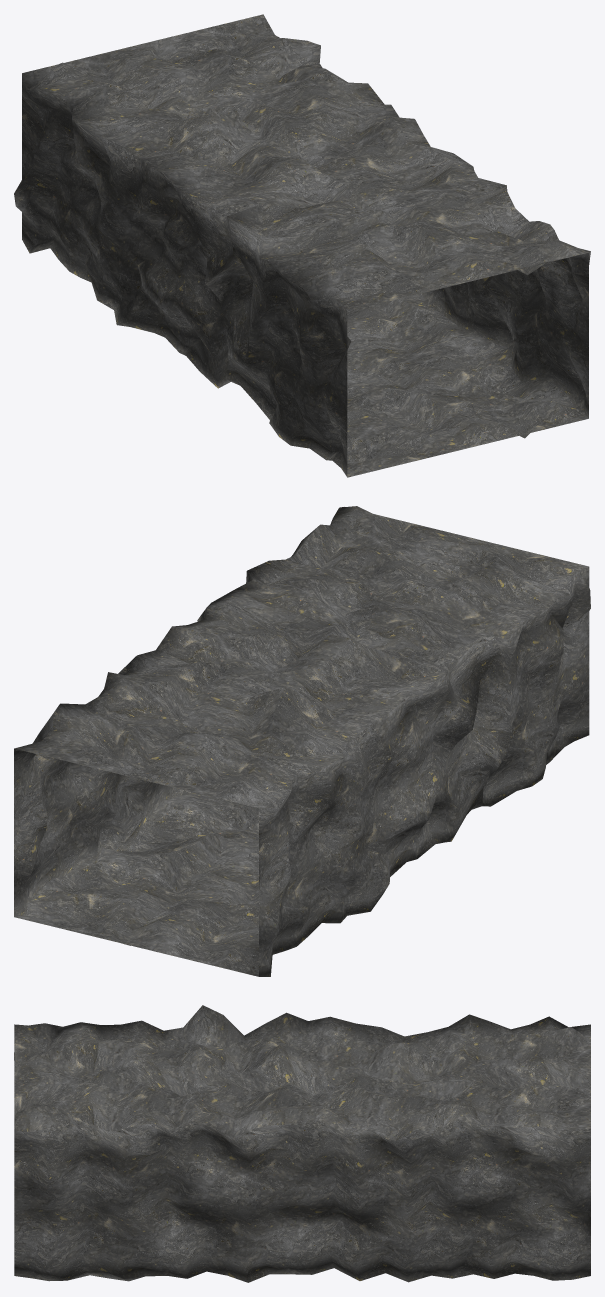
The model's file is tonnel.fbx.
The picture shows the model from 3 angles, top to bottom: view 1: azimuth 30°, elevation 25°; view 2: azimuth 150°, elevation 25°; view 3: azimuth 270°, elevation 25°; orthographic projection. The views are drawn at different scales.
Visible parts, largest first — view 1: Tonnel; view 2: Tonnel; view 3: Tonnel.
Boxes of the visible parts, left/top/right/bottom form: Tonnel: left=14, top=14, right=590, bottom=477; Tonnel: left=14, top=506, right=590, bottom=976; Tonnel: left=14, top=1005, right=590, bottom=1282.
Size of the model in its own units: 2.21 by 1.57 by 4.52.
Materials: 1 (1 with a texture image).
